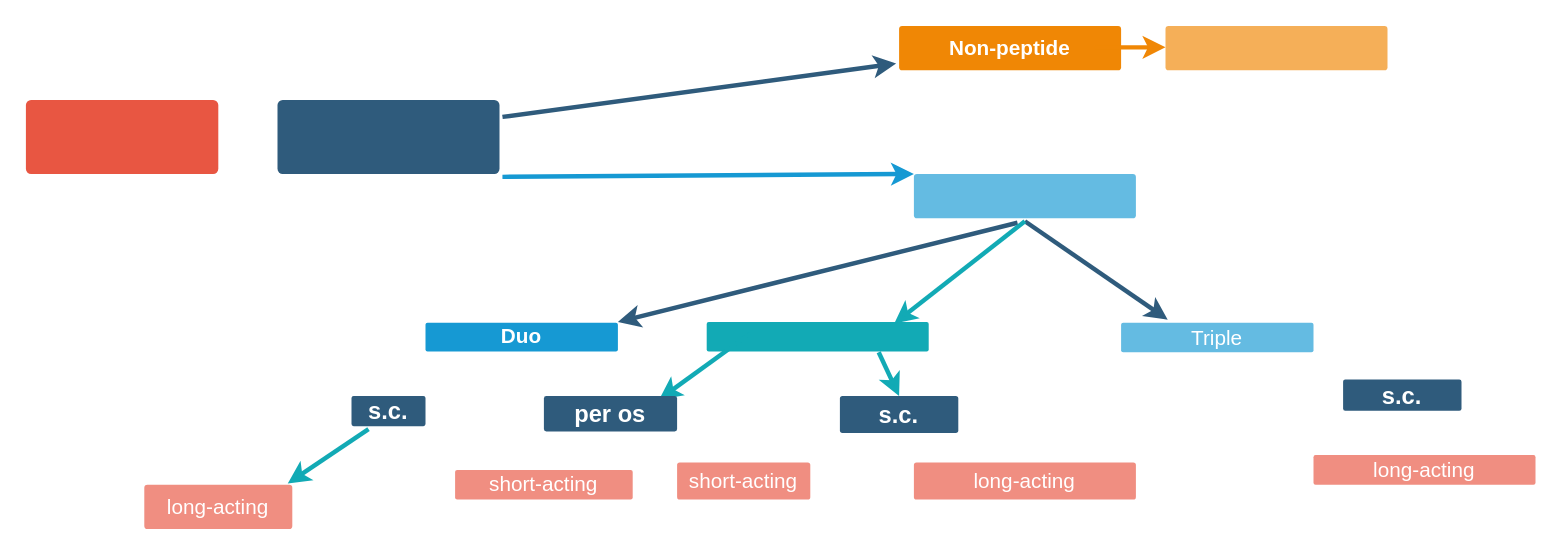
The diagram is 1560 pixels wide and 554 high, and some of its shapes have lost their labels. The centre of each missing label's shape, as x and y in pixels:
"Gliptins DPP-4 inhibitors" goes at [121,136].
"GLP-1 agonists" goes at [388,136].
"Mono" goes at [817,336].
"Orforglipron" goes at [1276,47].
"Peptide" goes at [1024,195].
